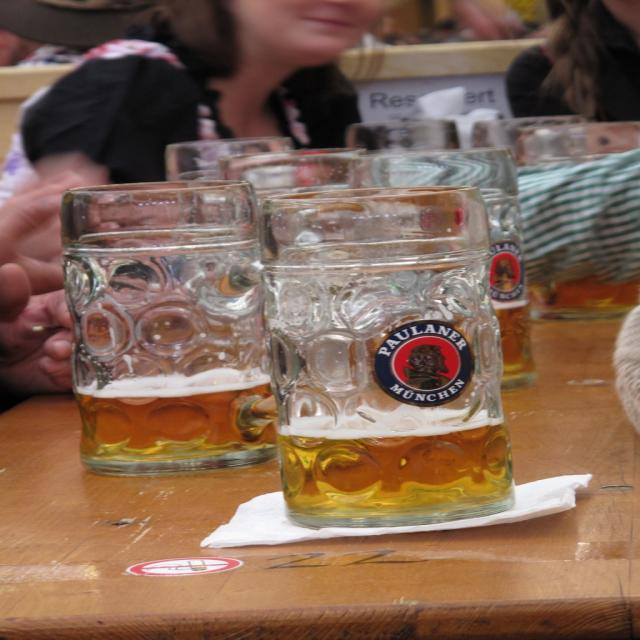paulaner: (374, 321, 476, 408), (489, 243, 527, 303)
